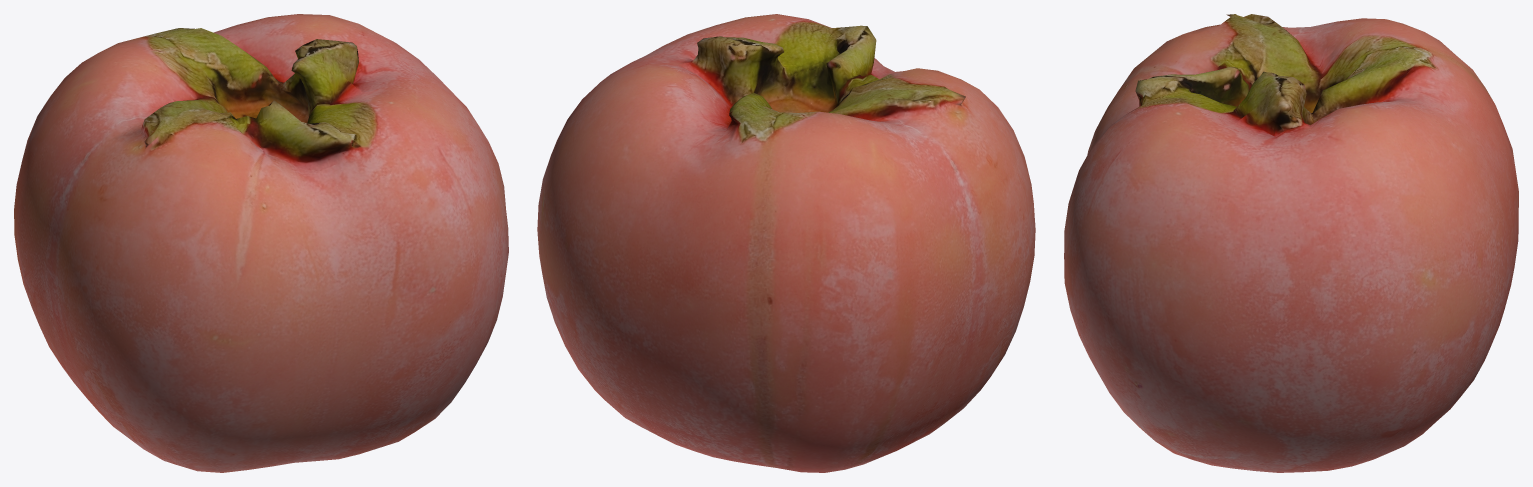
The model's file is kiri_kaki.gltf.
The picture shows the model from 3 angles, left to right: view 1: azimuth 30°, elevation 25°; view 2: azimuth 150°, elevation 25°; view 3: azimuth 270°, elevation 25°; orthographic projection.
Visible parts, largest first — view 1: A39_Persimmon; view 2: A39_Persimmon; view 3: A39_Persimmon.
Boxes of the visible parts, box(x1,y1,x2,y2) form: A39_Persimmon: box(14, 14, 508, 472); A39_Persimmon: box(537, 14, 1035, 472); A39_Persimmon: box(1064, 14, 1518, 472).
Size of the model in its own units: 0.0682 by 0.0589 by 0.0653.
1 material, 1 textured.
